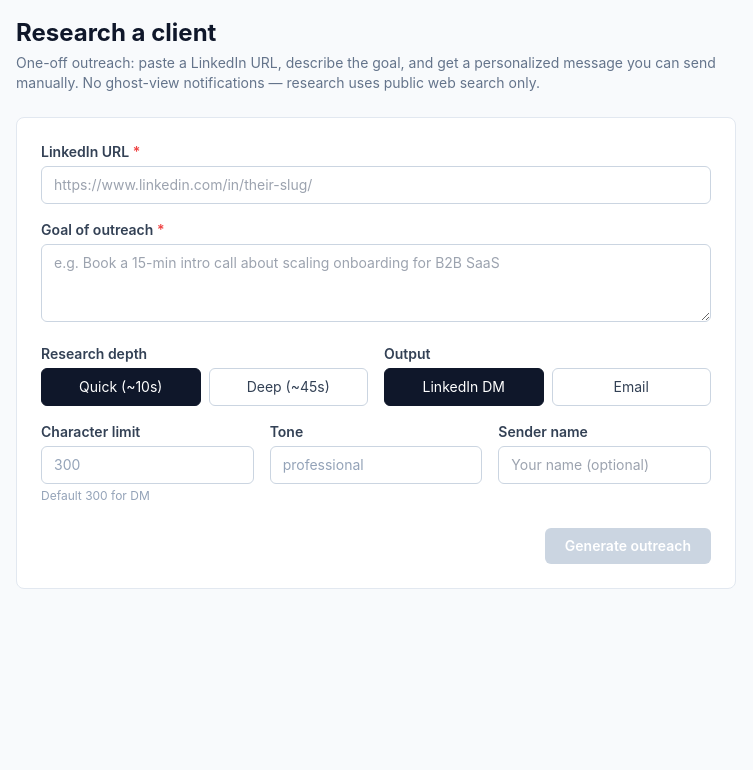
Test: ResearchClient page › hides the subject input when the server returns an empty subject
Type "https://www.linkedin.com/in/x/" into the field with test id "input-linkedin-url" at (376, 185), box [41, 166, 711, 204]
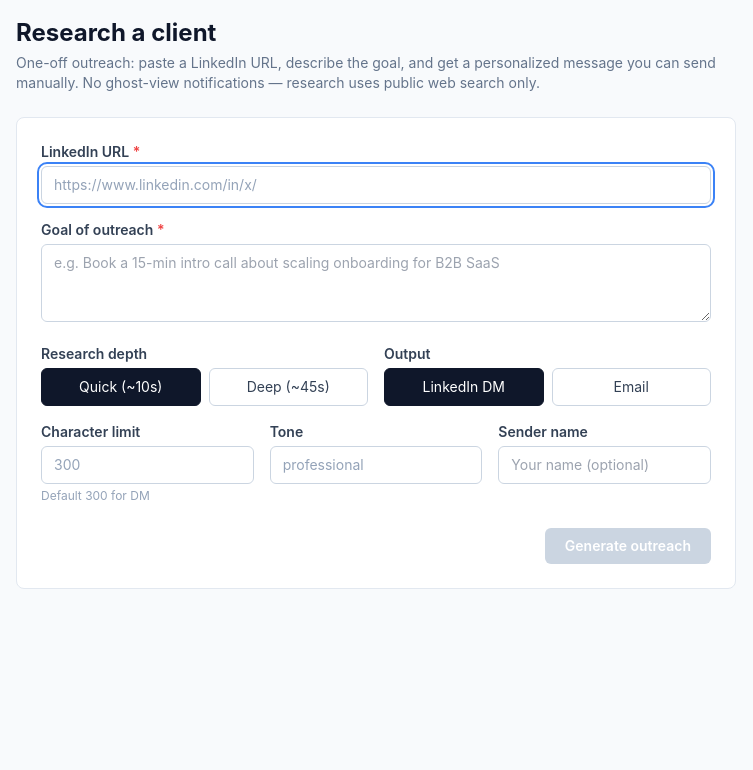
Type "ping" into the text box with test id "input-goal" at (376, 283), box [41, 244, 711, 322]
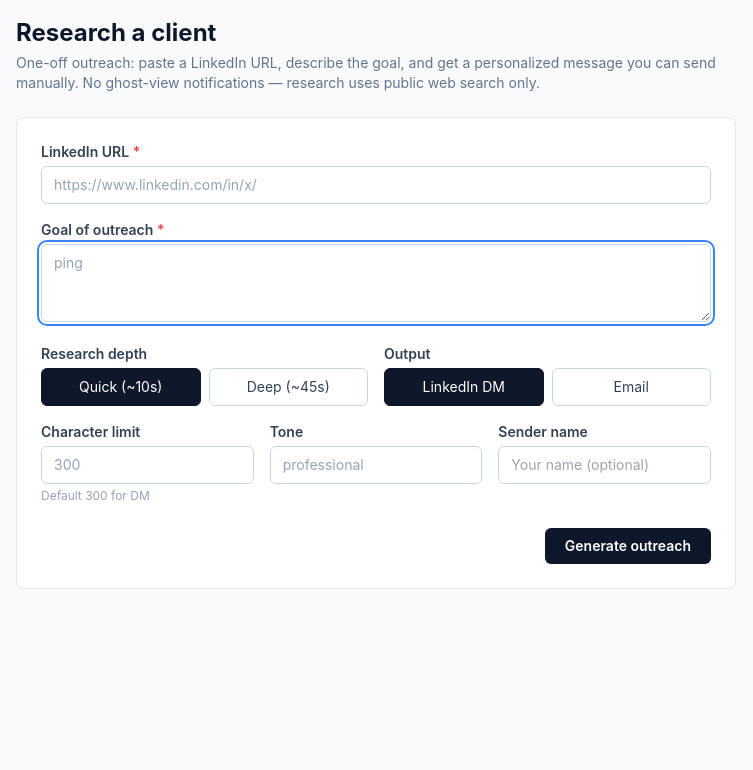
Click the button with test id "submit-research" at (628, 546), box [545, 528, 711, 564]
(page scrolled)
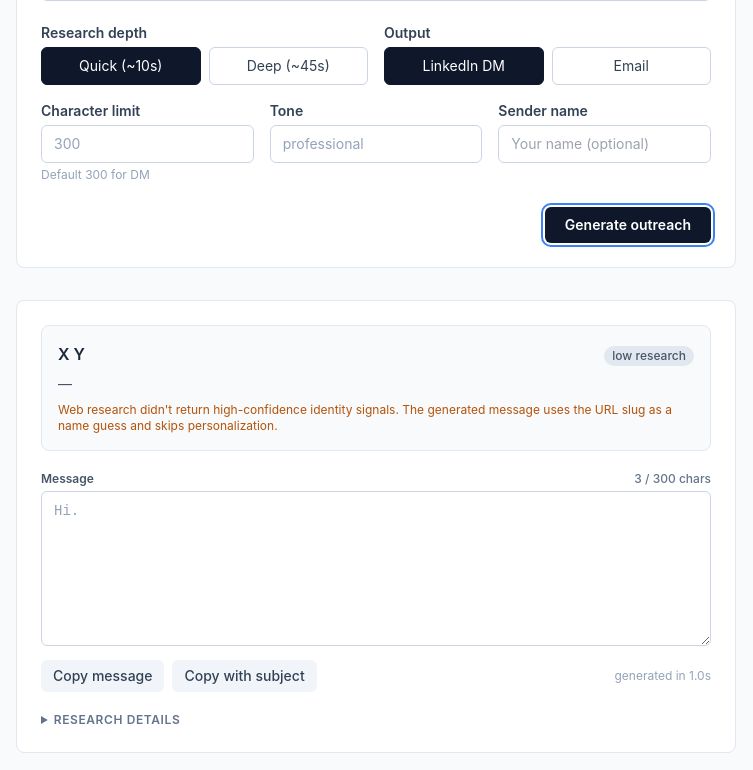
Expected: the element with test id "result-panel" is shown, [41, 325, 711, 728]
